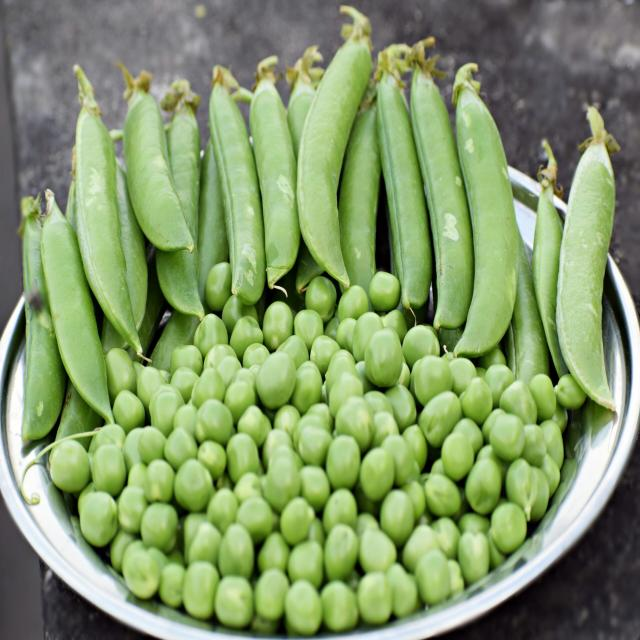arvejas: (93, 329, 609, 635)
